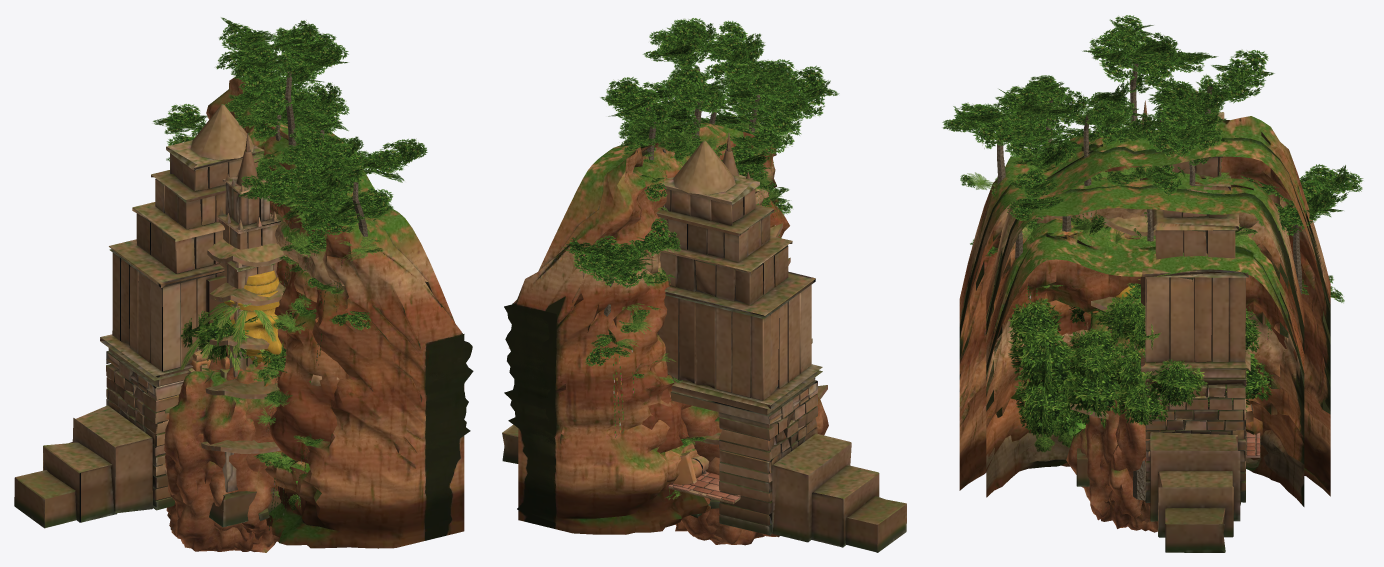
The model's file is kit.high.glb.
3 renders of one model, left to right at view 1: azimuth 30°, elevation 25°; view 2: azimuth 150°, elevation 25°; view 3: azimuth 270°, elevation 25°, orthographic. The views are drawn at different scales.
Visible parts, largest first — view 1: cliff_wall_2, face_gate_0, cliff_wall_2_veg, rock_big_0, cliff_wall_1, temple_1, cliff_wall_1_veg, cliff_wall_0_veg, rock_big_2, temple_0, face_gate_0_gold, tree_big_1_crown (+4 smaller); view 2: face_gate_0, cliff_wall_2, cliff_wall_2_veg, cliff_wall_0_veg, cliff_wall_1_veg, cliff_wall_1, rock_big_1, floor_wide_0, rock_big_2, rock_big_0, column_fallen_0, cliff_wall_2_trees; view 3: face_gate_0, cliff_wall_2, cliff_wall_0, cliff_wall_2_veg, cliff_wall_1, jungle_bank_2, cliff_wall_1_veg, cliff_wall_0_veg, jungle_bank_1, canopy_0, rock_big_2, rock_big_1 (+6 smaller).
Boxes of the visible parts, x1,y1,x2,y2 form: cliff_wall_2: (206, 76, 473, 548); face_gate_0: (14, 104, 264, 528); cliff_wall_2_veg: (153, 17, 427, 530); rock_big_0: (164, 361, 278, 552); cliff_wall_1: (269, 213, 348, 515); temple_1: (201, 239, 285, 527); cliff_wall_1_veg: (225, 76, 349, 431); cliff_wall_0_veg: (238, 160, 393, 473); rock_big_2: (175, 354, 276, 551); temple_0: (217, 133, 280, 520); face_gate_0_gold: (222, 270, 282, 363); tree_big_1_crown: (180, 311, 286, 366); face_gate_0: (502, 140, 906, 552); cliff_wall_2: (504, 123, 789, 534); cliff_wall_2_veg: (562, 18, 839, 437); cliff_wall_0_veg: (622, 95, 801, 447); cliff_wall_1_veg: (618, 62, 780, 253); cliff_wall_1: (642, 173, 769, 452); rock_big_1: (675, 405, 779, 545); floor_wide_0: (668, 471, 740, 504); rock_big_2: (695, 412, 741, 544); rock_big_0: (681, 397, 828, 536); column_fallen_0: (673, 452, 709, 484); cliff_wall_2_trees: (604, 66, 760, 316); face_gate_0: (1141, 90, 1250, 552); cliff_wall_2: (959, 116, 1330, 496); cliff_wall_0: (986, 218, 1304, 506); cliff_wall_2_veg: (942, 15, 1363, 303); cliff_wall_1: (986, 166, 1304, 477); jungle_bank_2: (1008, 298, 1273, 445); cliff_wall_1_veg: (1043, 82, 1230, 310); cliff_wall_0_veg: (970, 124, 1271, 380); jungle_bank_1: (1014, 327, 1248, 452); canopy_0: (1095, 310, 1207, 425); rock_big_2: (1066, 379, 1174, 530); rock_big_1: (1087, 312, 1157, 530).
Size of the model in its own units: 31.2 by 38.53 by 30.14.
Materials: 13 (13 with a texture image).
